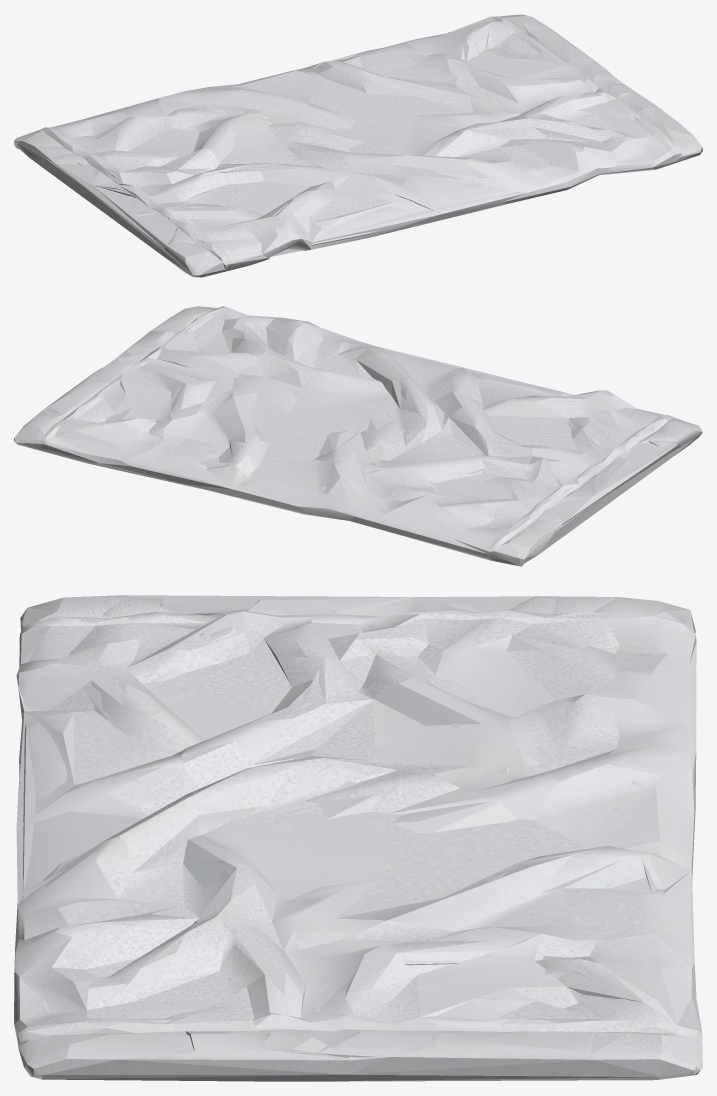
Rendered from mat-towel-mobile.glb.
3 views of the same model, one above another, from view 1: azimuth 30°, elevation 25°; view 2: azimuth 150°, elevation 25°; view 3: azimuth 270°, elevation 25° (orthographic). The views are drawn at different scales.
Parts seen in each view (by area): view 1: output_unwrapped; view 2: output_unwrapped; view 3: output_unwrapped.
Boxes of the visible parts, x1,y1,x2,y2 form: output_unwrapped: [14, 14, 702, 277]; output_unwrapped: [14, 306, 702, 566]; output_unwrapped: [14, 595, 702, 1081].
Bounding box in the file's own units: 1.9 × 0.1165 × 1.2.
Materials: 1 (1 with a texture image).
